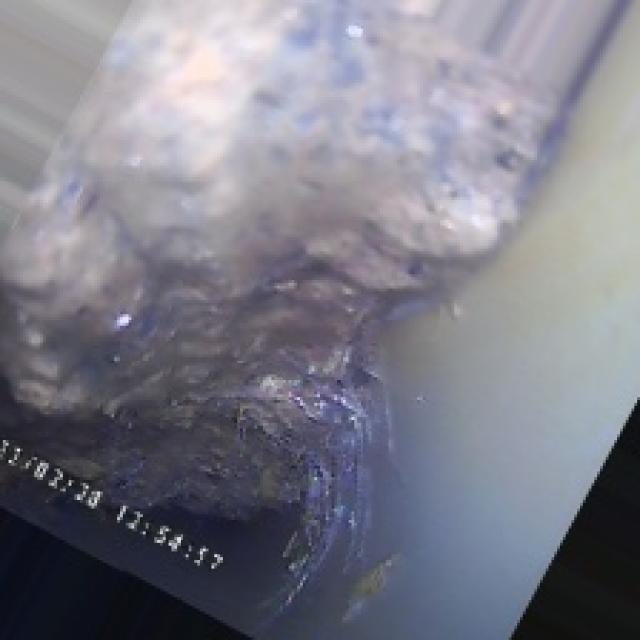sluge accumulation: (51, 74, 512, 514)
